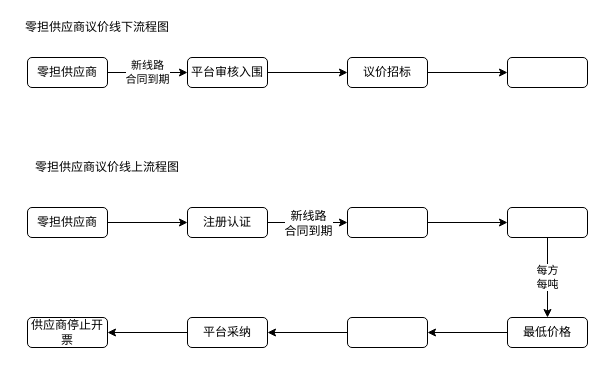
Some shapes in this 605 by 365 pixel diagram are drawn without their labels. The centre of each missing label's shape, as x and y in pixels:
单价议价: the point at 547,222
平台审核: the point at 387,222
最优服务: the point at 387,332
最低价采纳: the point at 547,72
